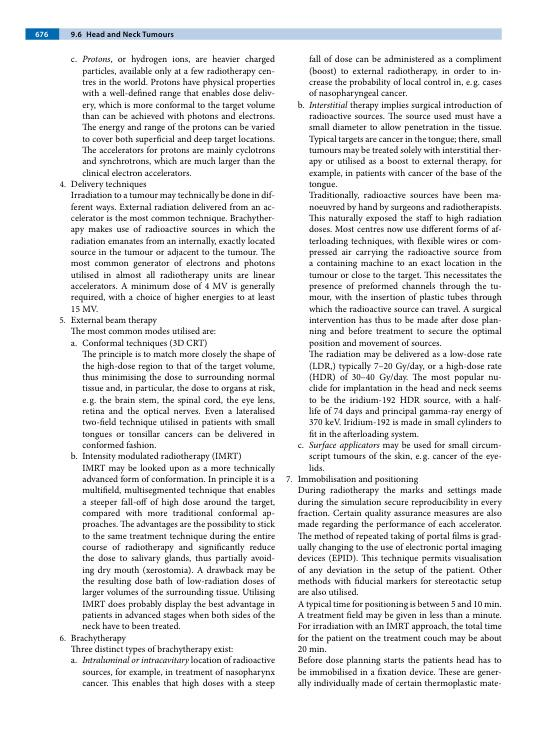header: (85, 30, 175, 39)
list: (56, 53, 278, 691), (284, 51, 505, 689)
